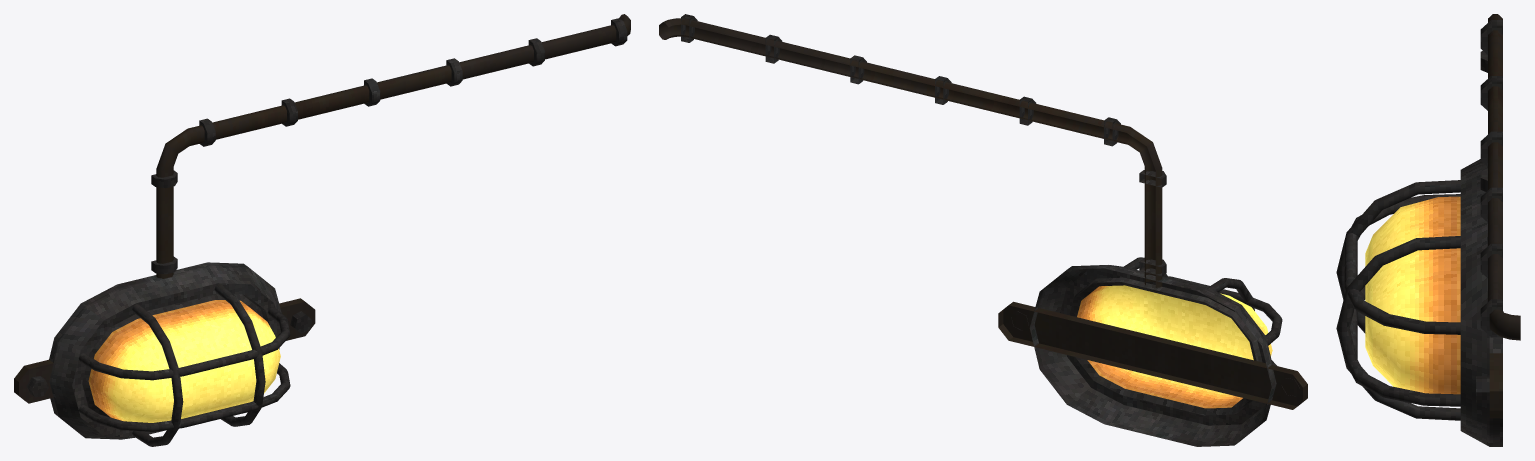
The model's file is lamp_1_on.glb.
The picture shows the model from 3 angles, left to right: view 1: azimuth 30°, elevation 25°; view 2: azimuth 150°, elevation 25°; view 3: azimuth 270°, elevation 25°; orthographic projection. The views are drawn at different scales.
Visible parts, largest first — view 1: lamp_1_on; view 2: lamp_1_on; view 3: lamp_1_on.
Boxes of the visible parts, x1,y1,x2,y2 form: lamp_1_on: [14, 14, 630, 446]; lamp_1_on: [659, 14, 1307, 446]; lamp_1_on: [1336, 14, 1520, 446].
Size of the model in its own units: 0.7532 by 0.343 by 0.1393.
Materials: 4 (4 with a texture image).
